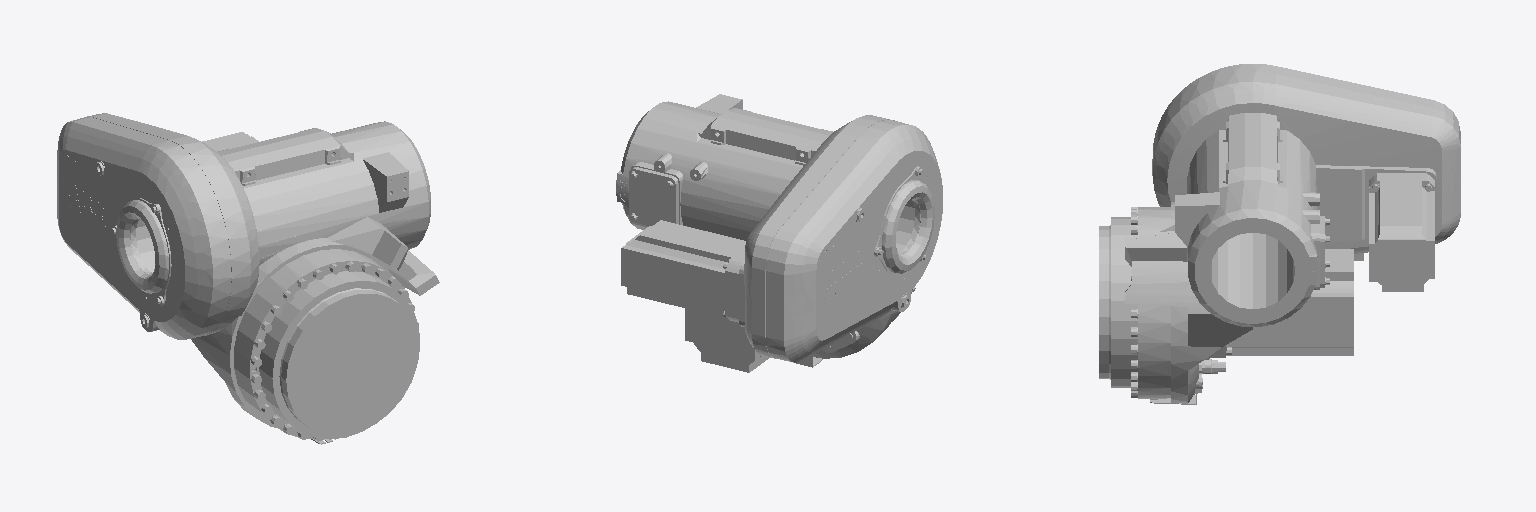
3 renders of one model, left to right at view 1: azimuth 30°, elevation 25°; view 2: azimuth 150°, elevation 25°; view 3: azimuth 270°, elevation 25°, orthographic.
Parts seen in each view (by area): view 1: LINK_03 rawMesh; view 2: LINK_03 rawMesh; view 3: LINK_03 rawMesh.
Part boxes in pixels (x1,y1,x2,y2): LINK_03 rawMesh: (57,113,439,444); LINK_03 rawMesh: (616,94,942,372); LINK_03 rawMesh: (1099,64,1460,404).
Bounding box in the file's own units: 59.47 × 60.51 × 70.44.